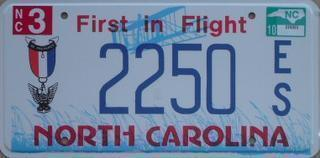placa de veiculo: (2, 1, 318, 158)
